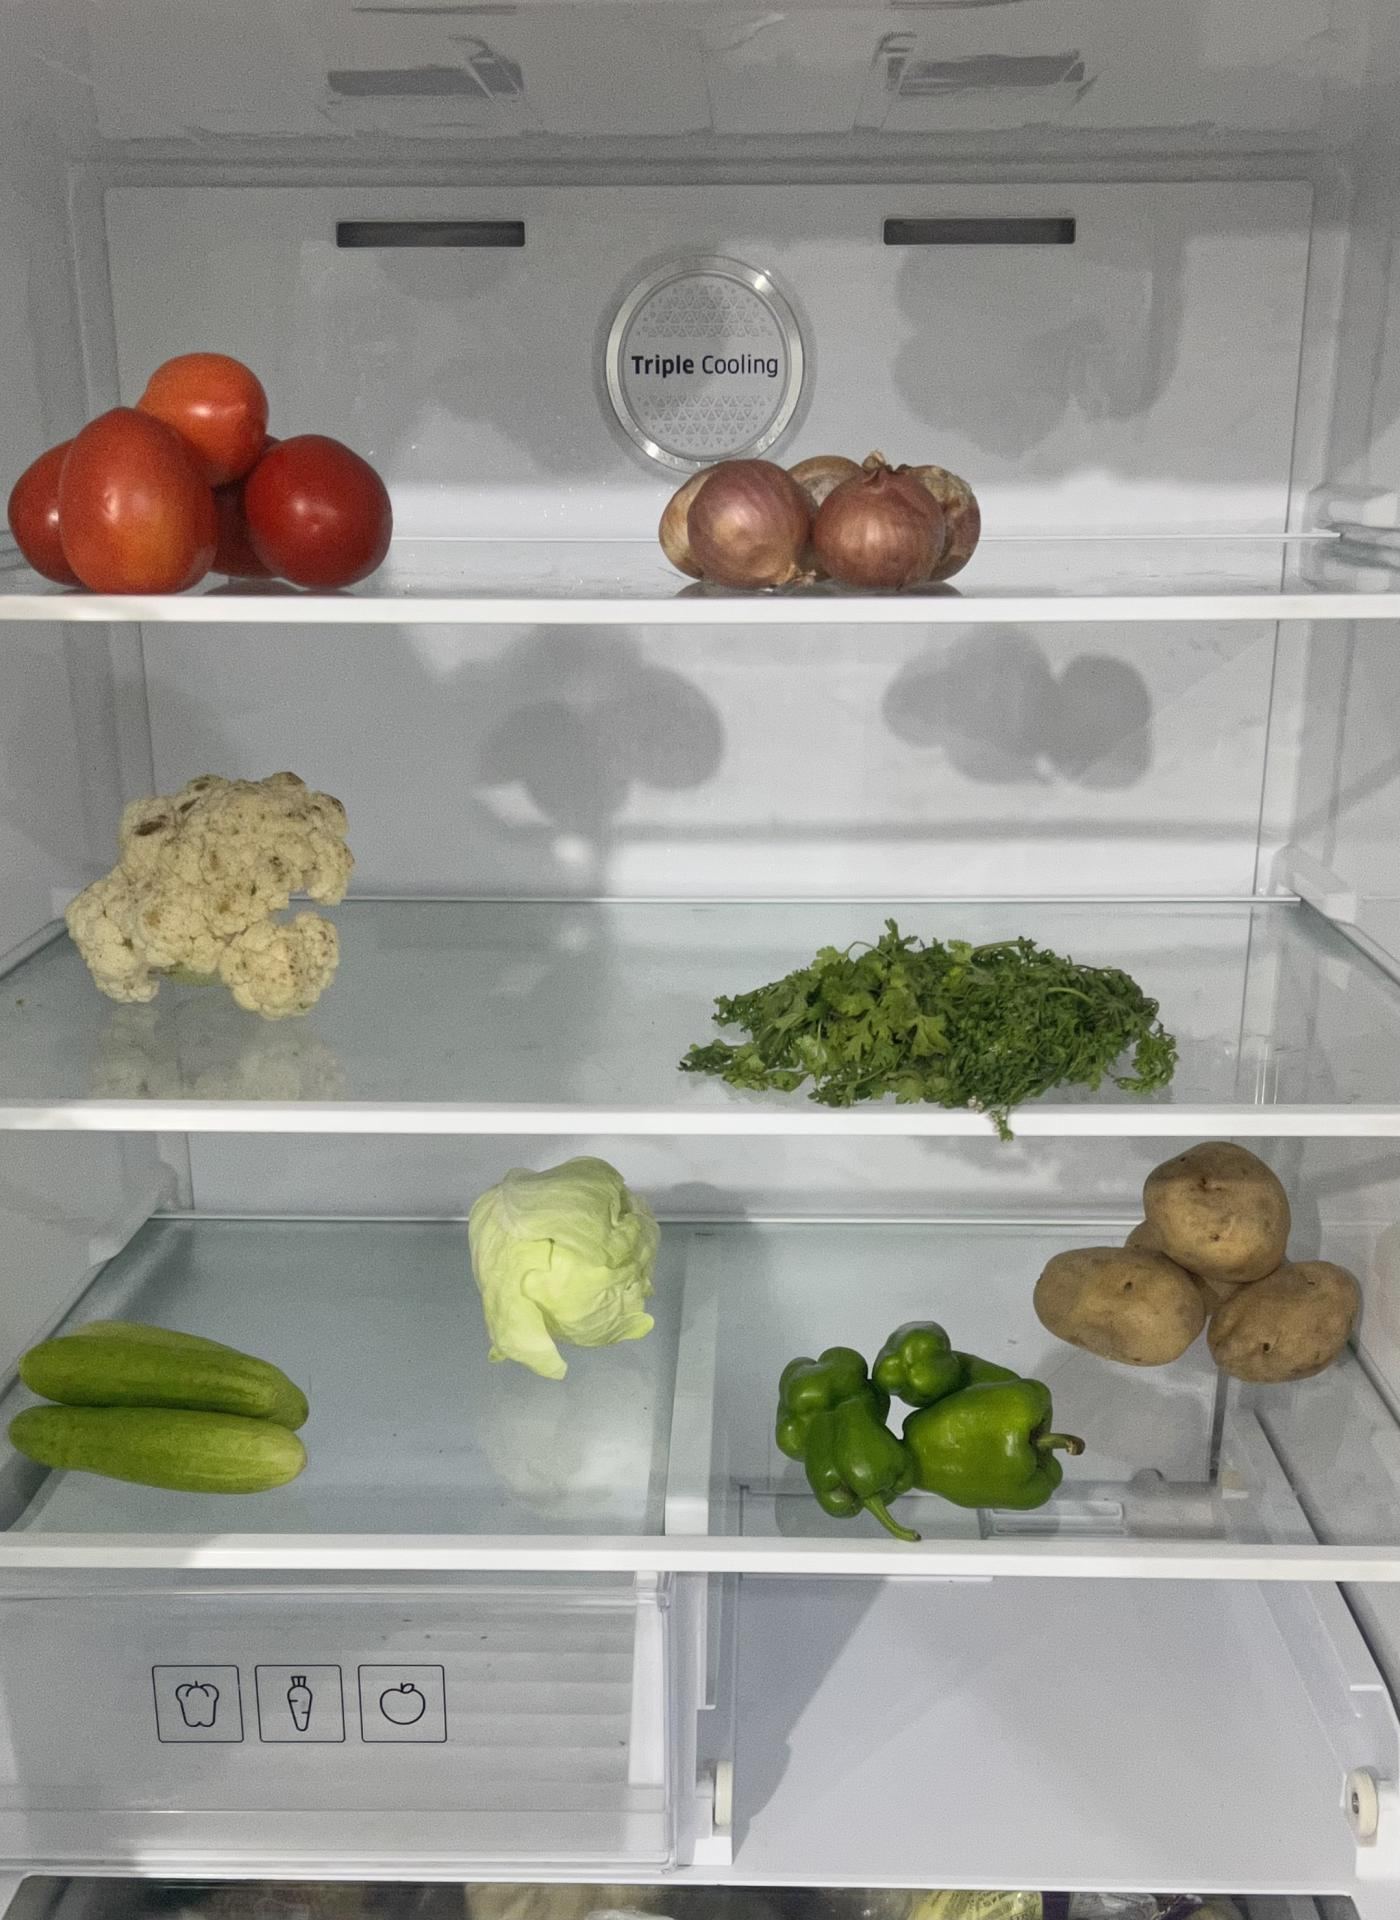cabbage: (465, 1161, 659, 1380)
capsicum: (777, 1328, 1081, 1520)
cauliflower: (64, 769, 353, 1014)
coriander: (692, 933, 1170, 1111)
cucumber: (1, 1325, 319, 1485)
onion: (658, 446, 988, 583)
potato: (1032, 1143, 1363, 1385)
tomato: (7, 352, 400, 590)
